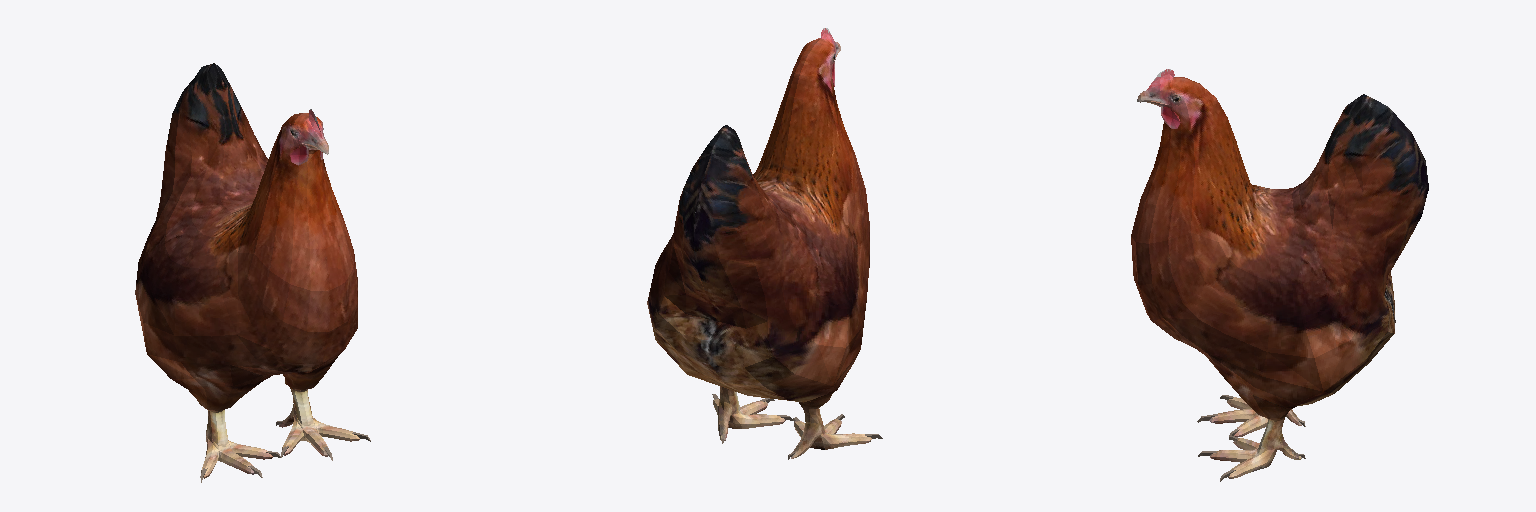
3 renders of one model, left to right at view 1: azimuth 30°, elevation 25°; view 2: azimuth 150°, elevation 25°; view 3: azimuth 270°, elevation 25°, orthographic.
Visible parts, largest first — view 1: Chicken_Cylinder.001; view 2: Chicken_Cylinder.001; view 3: Chicken_Cylinder.001.
Part boxes in pixels (bbox=[...]): Chicken_Cylinder.001: bbox=[135, 63, 370, 482]; Chicken_Cylinder.001: bbox=[647, 28, 882, 459]; Chicken_Cylinder.001: bbox=[1131, 69, 1428, 481].
Bounding box in the file's own units: 0.532 × 1 × 0.7204.
Materials: 3 (1 with a texture image).